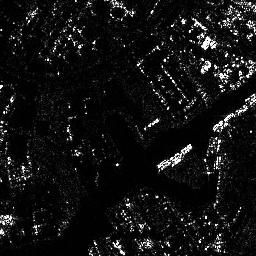ship: (211, 119, 223, 131), (181, 144, 192, 153)
